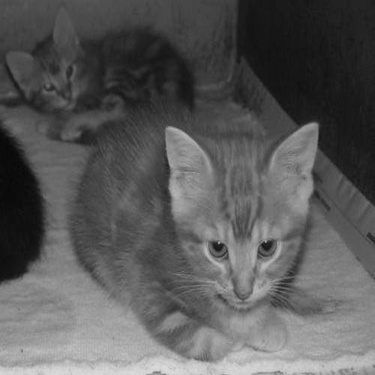cat: (72, 102, 343, 363), (5, 13, 194, 142), (1, 129, 48, 285)
